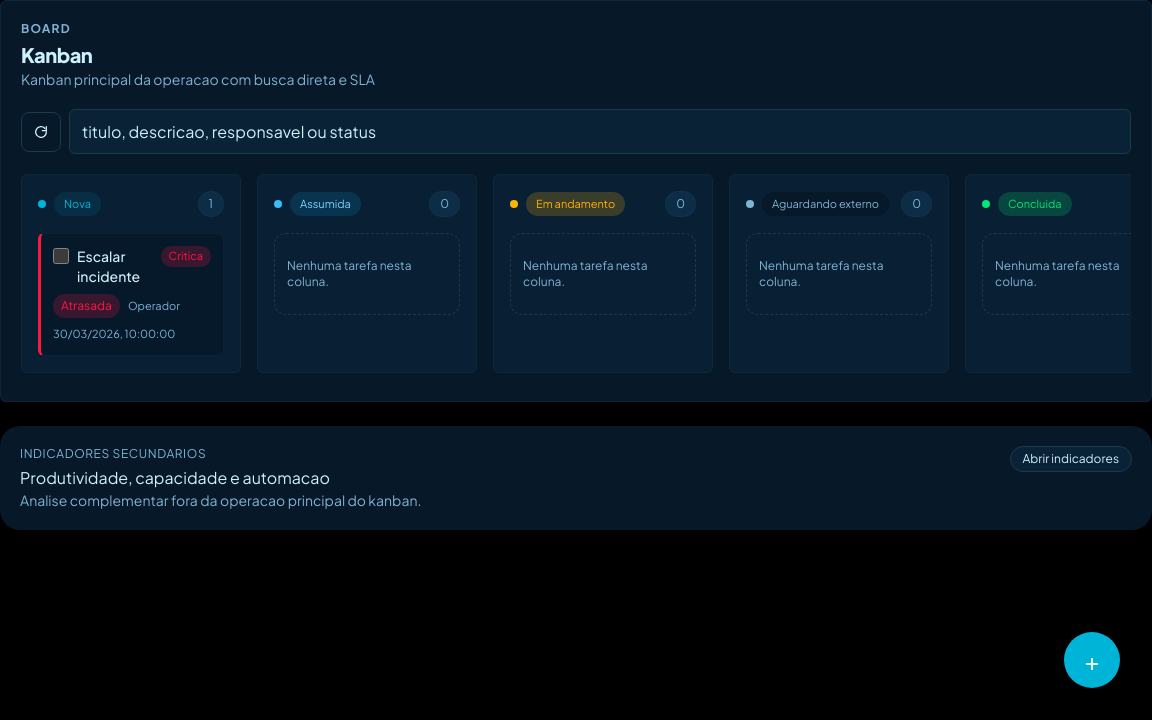
Test case: AdminTasksPanel › abre o detalhe administrativo da tarefa pelo board
The width and height of the screenshot is (1152, 720).
Step 1. Click the button with aria-label "Abrir tarefa Escalar incidente" → [131, 294], box x1=38 y1=233 x2=224 y2=356
(page scrolled)
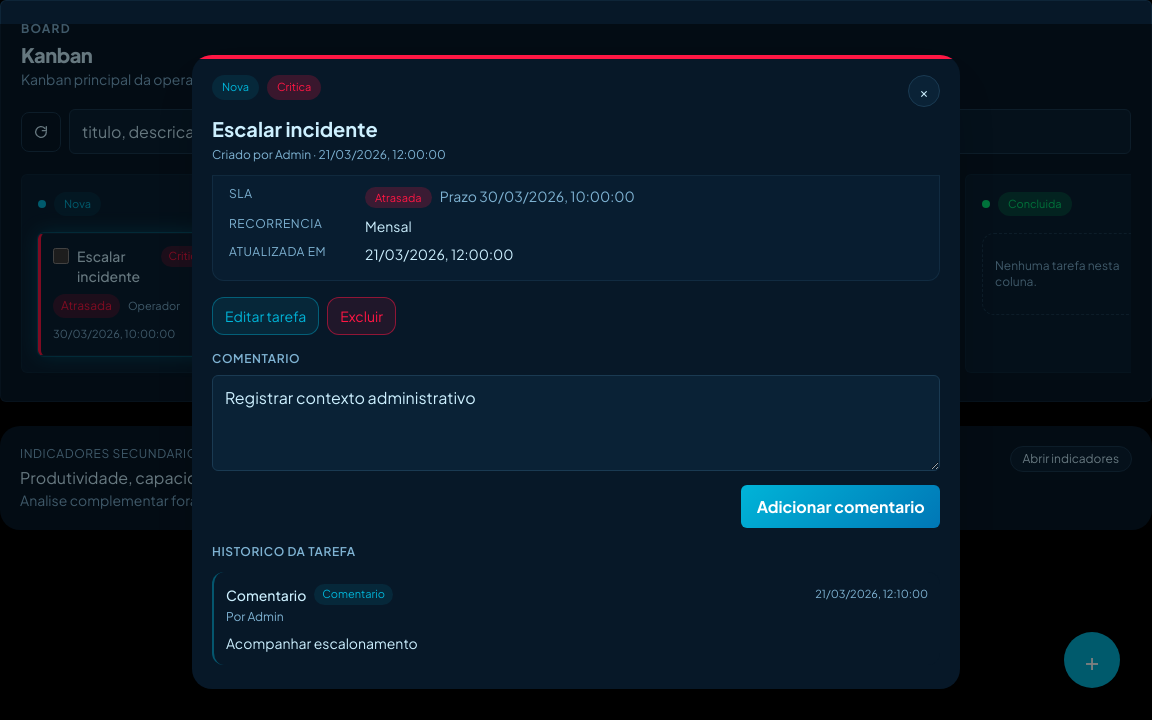
expect the heading "Kanban" is shown: met, box x1=21 y1=42 x2=92 y2=67
expect the heading "Escalar incidente" is shown: met, box x1=212 y1=116 x2=378 y2=141
expect the text "Acompanhar escalonamento" is shown: met, box x1=226 y1=634 x2=418 y2=652
